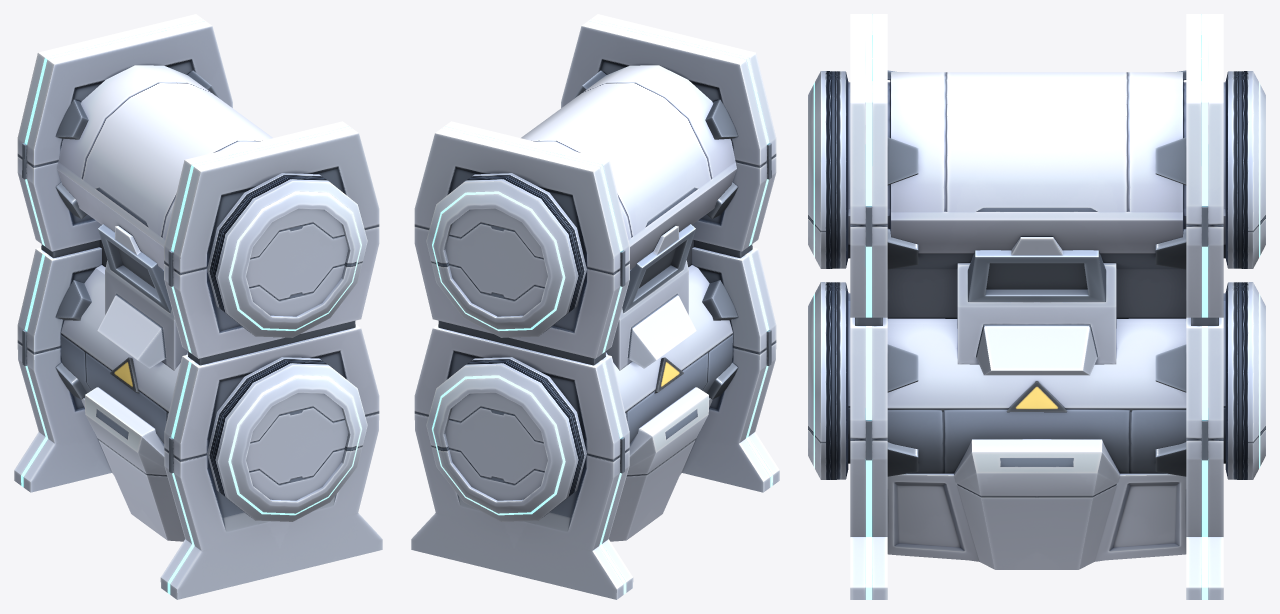
The model's file is obj_lab06.gltf.
The picture shows the model from 3 angles, left to right: view 1: azimuth 30°, elevation 25°; view 2: azimuth 150°, elevation 25°; view 3: azimuth 270°, elevation 25°; orthographic projection. The views are drawn at different scales.
Parts seen in each view (by area): view 1: obj_lab06; view 2: obj_lab06; view 3: obj_lab06.
Boxes of the visible parts, bbox=[...] form: obj_lab06: bbox=[14, 14, 382, 599]; obj_lab06: bbox=[411, 14, 779, 599]; obj_lab06: bbox=[808, 14, 1265, 599].
Size of what is drawn, in the model's own units: 1.3 by 2.55 by 2.19.
3 materials, 2 textured.
